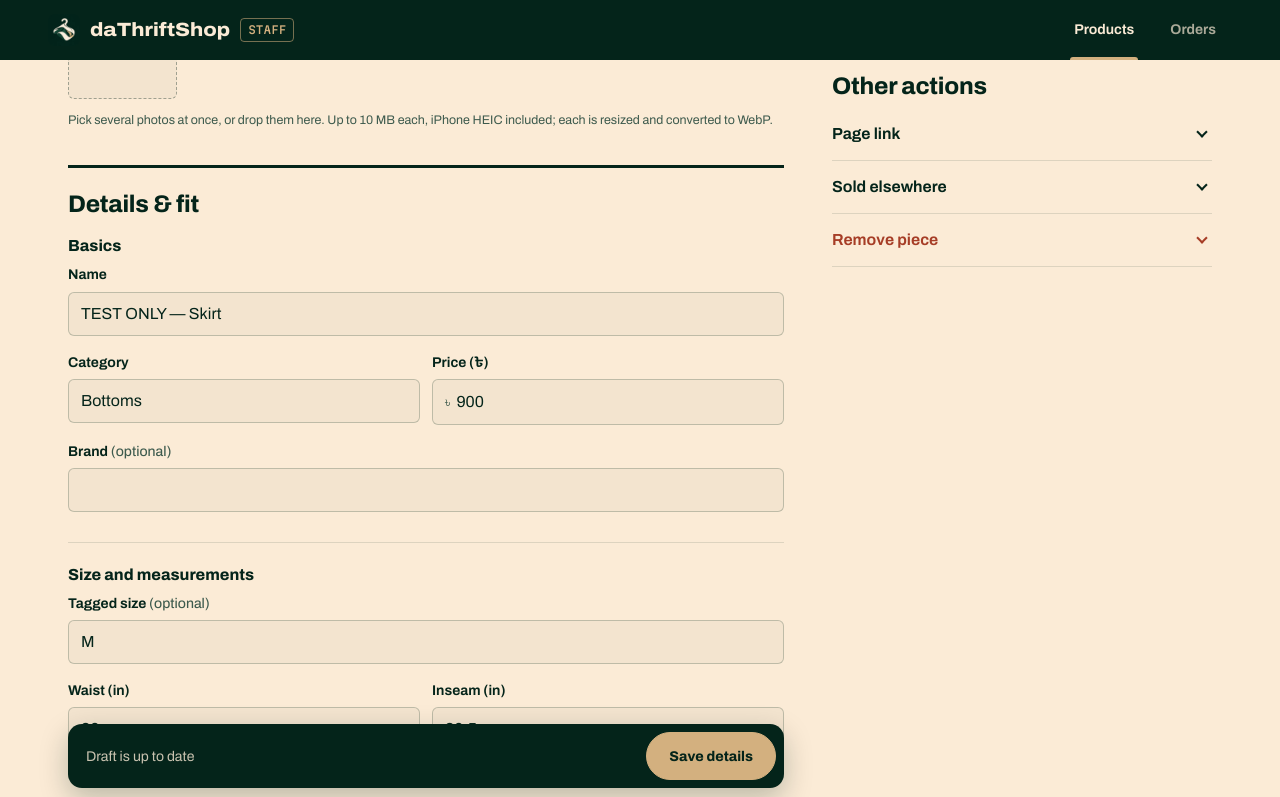
Test: asks only for the measurements the chosen category needs
(page scrolled)
Select "Tops" in the dropdown labelled "Category": x=244, y=401 [68,379,420,423]
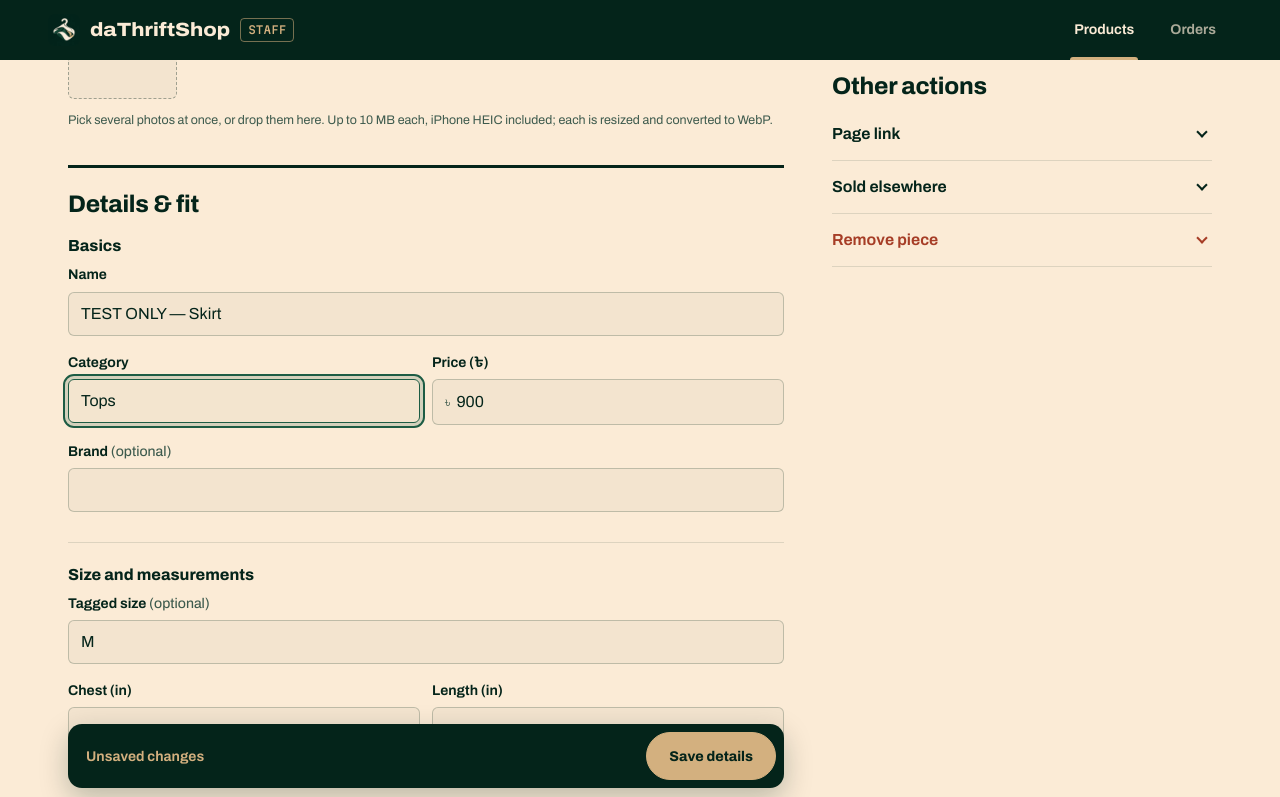
Select "Bags" in the dropdown labelled "Category": x=244, y=401 [68,379,420,423]
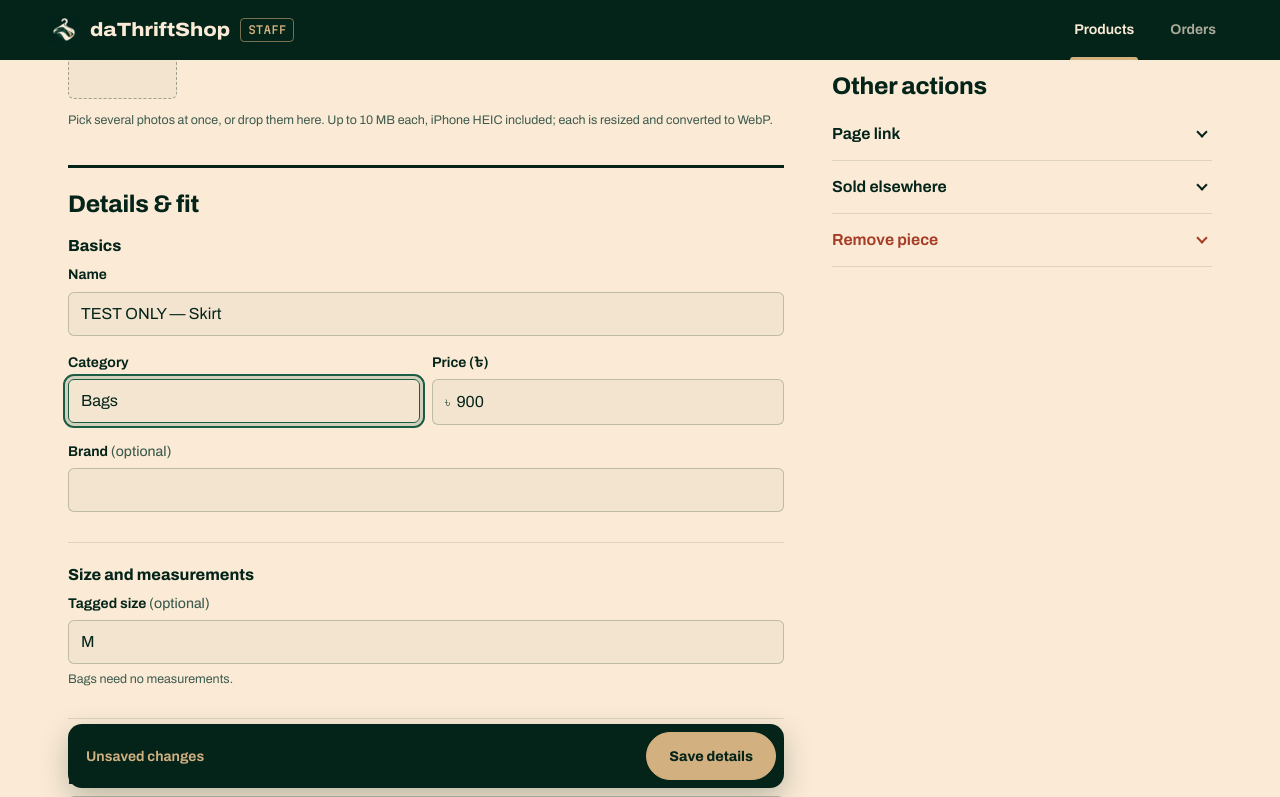
Click the button "Save details": x=711, y=756 [646,732,776,780]
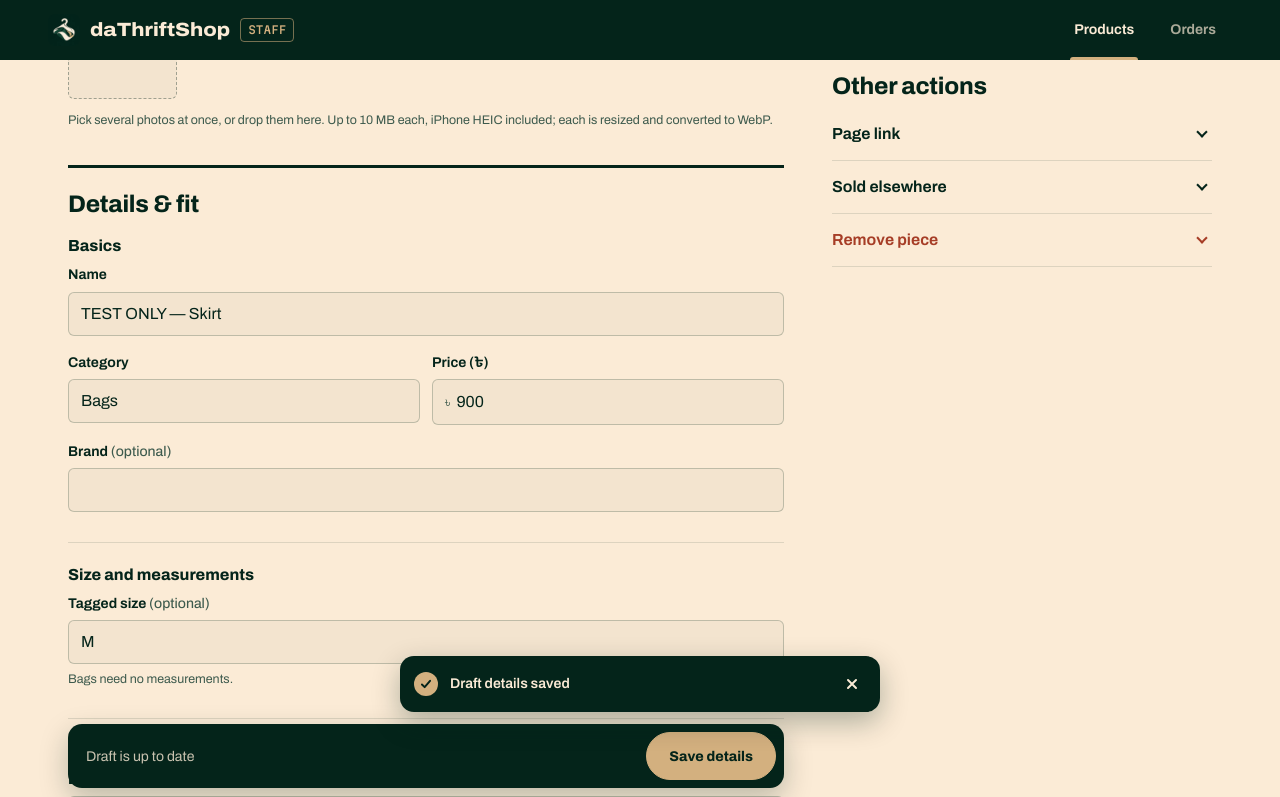
Now the text "Draft details saved" is shown, box [450,676,570,691]
